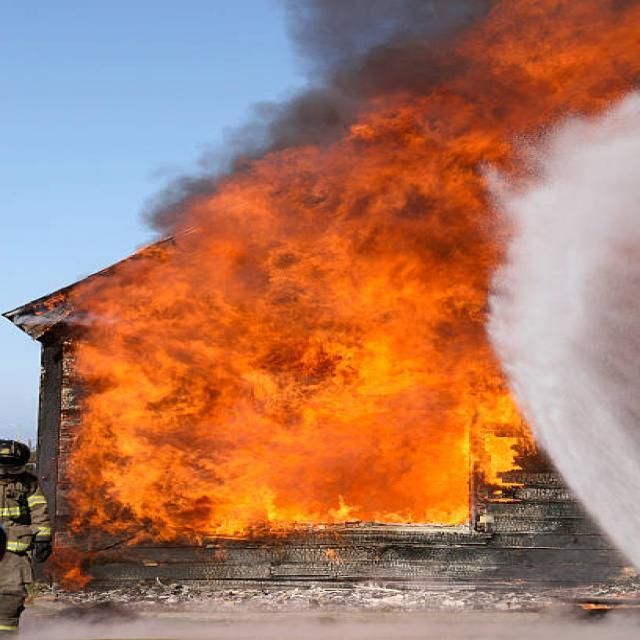Fire: (274, 130, 498, 541), (87, 258, 379, 526), (462, 0, 640, 106)
Smoke: (284, 2, 478, 150), (150, 114, 325, 245)
